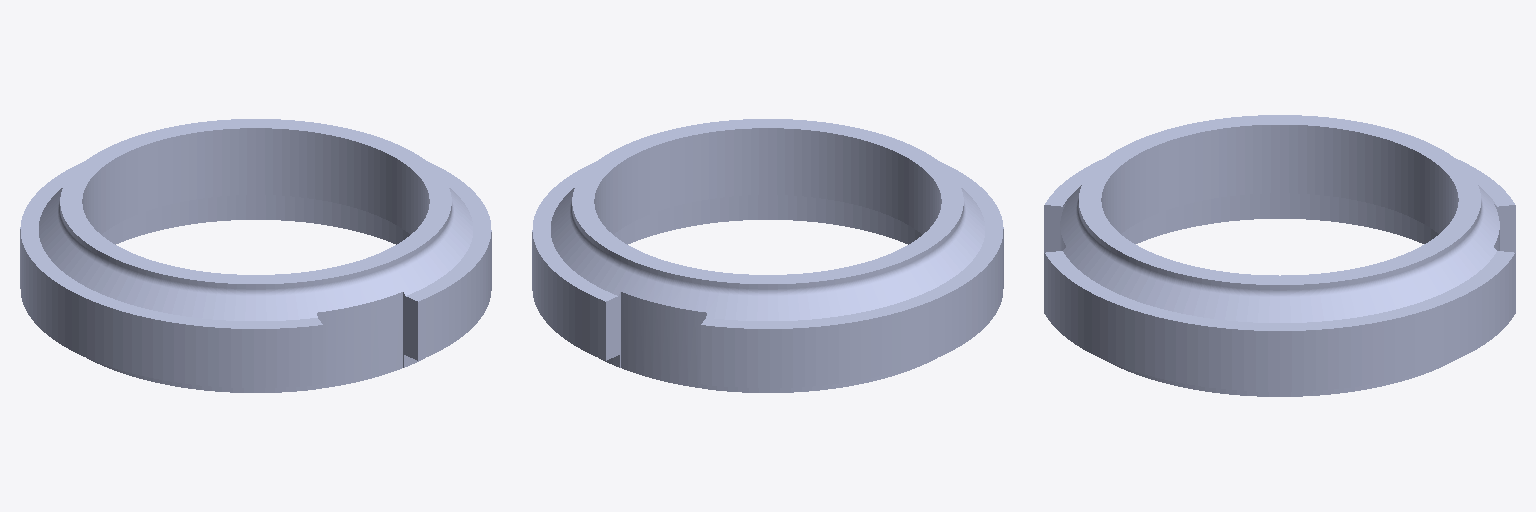
robot.urdf — abc_mesh_12_scale_15:
<?xml version="1.0" encoding="utf-8"?>
<!-- This URDF was automatically created by SolidWorks to URDF Exporter! Originally created by [author] ([email redacted]) 
     Commit Version: 1.5.1-0-g916b5db  Build Version: 1.5.7152.31018
     For more information, please see http://wiki.ros.org/sw_urdf_exporter -->
<robot
  name="abc_mesh_12_scale_15">
  <link
    name="abc_mesh_12_scale_15">
    <inertial>
      <origin
        xyz="0.0 0.0 -0.0"
        rpy="0 0 0" />
      <mass
        value="0.01" />
      <inertia
        ixx="0"
        ixy="-0"
        ixz="-0"
        iyy="0"
        iyz="-0"
        izz="0" />
    </inertial>
    <visual>
      <origin
        xyz="0 0 0"
        rpy="0 0 0" />
      <geometry>
        <mesh
          filename="package://ipa_kifz_data/test_dataset/meshes/abc_mesh_12_scale_15.STL" />
      </geometry>
      <material
        name="">
        <color
          rgba="0.79216 0.81961 0.93333 1" />
      </material>
    </visual>
    <collision>
      <origin
        xyz="0 0 0"
        rpy="0 0 0" />
      <geometry>
        <mesh
          filename="package://ipa_kifz_data/test_dataset/meshes/abc_mesh_12_scale_15.STL" />
      </geometry>
    </collision>
  </link>

  <!-- Turn of Gravity to fix workpiece at initial position-->
  <gazebo reference="abc_mesh_12_scale_15">
    <turnGravityOff>true</turnGravityOff>
    <static>true</static>
    <selfCollide>true</selfCollide>
    <material>Gazebo/Green</material>
  </gazebo>
</robot>

--- Render facts (derived) ---
The picture shows the robot from 3 angles, left to right: view 1: azimuth 30°, elevation 25°; view 2: azimuth 150°, elevation 25°; view 3: azimuth 270°, elevation 25°; orthographic projection.
Robot: abc_mesh_12_scale_15 — 1 links, 0 joints (none); root link abc_mesh_12_scale_15; default pose: every joint at zero.
Links seen in each view (by area): view 1: abc_mesh_12_scale_15; view 2: abc_mesh_12_scale_15; view 3: abc_mesh_12_scale_15.
Boxes of the visible links, x1=… form: abc_mesh_12_scale_15: x1=20, y1=119, x2=491, y2=392; abc_mesh_12_scale_15: x1=532, y1=119, x2=1003, y2=392; abc_mesh_12_scale_15: x1=1044, y1=115, x2=1515, y2=396.
Size in the robot's own frame: 0.6119 by 0.595 by 0.1448 metres.
1 mesh visuals loaded from 1 distinct referenced files (1 binary STL).